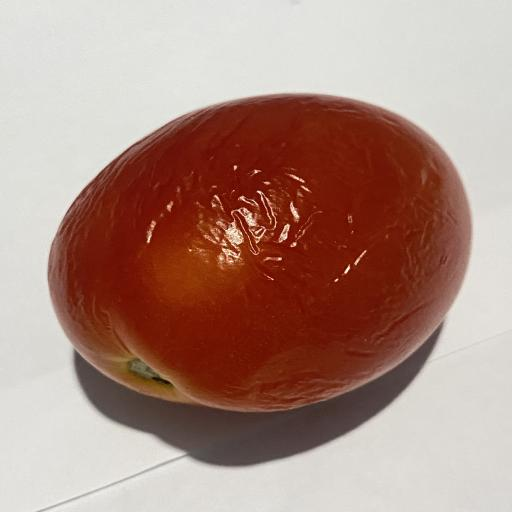spoiled: (48, 94, 471, 412)
